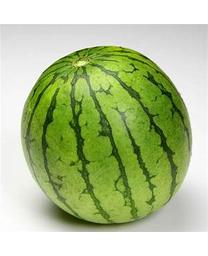watermelon: (20, 45, 193, 226)
